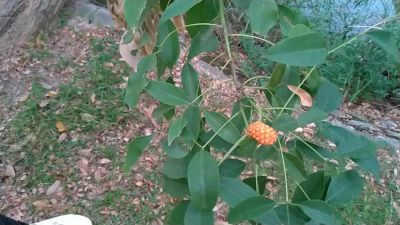eggs: (244, 118, 278, 147)
